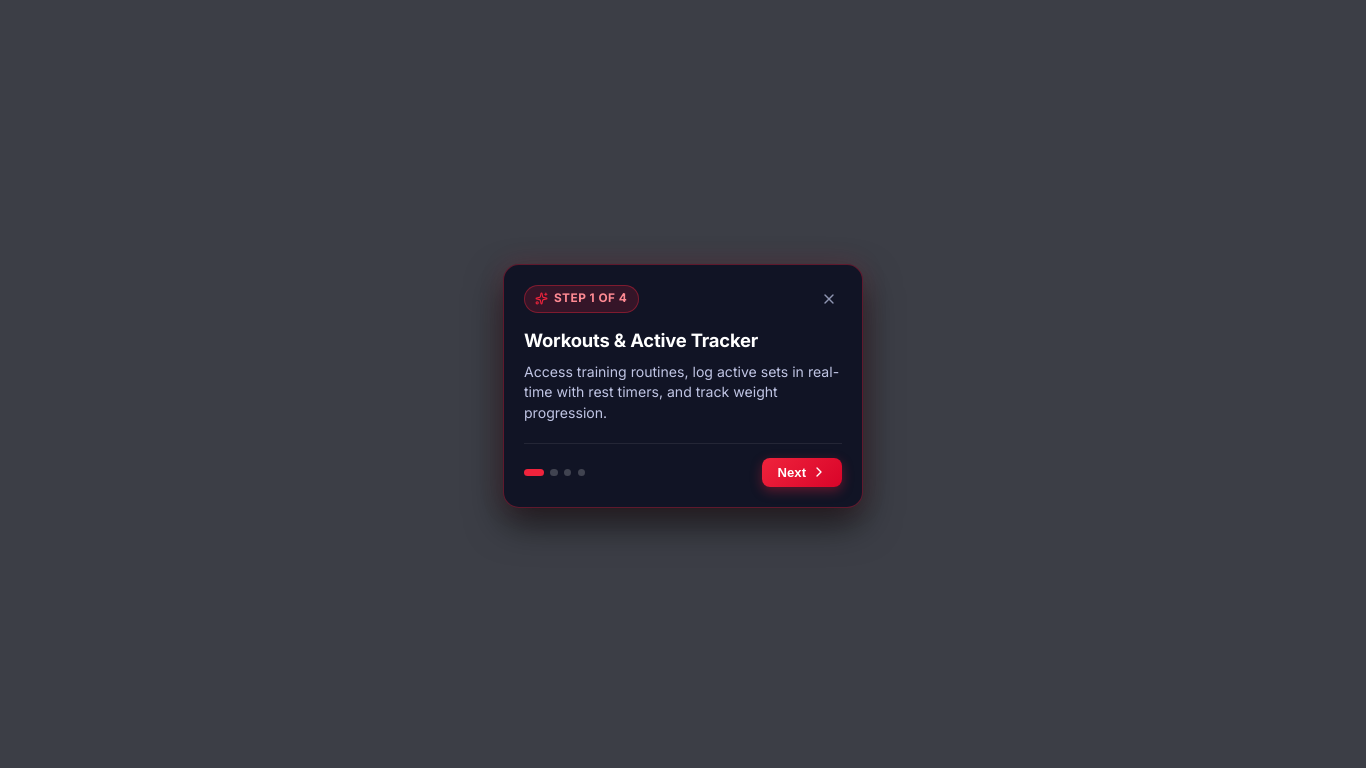
Test case: SpotlightTour › renders Client tour steps and advances with Next button
The width and height of the screenshot is (1366, 768).
expect the element with test id "tour-step-counter" shows "1": met, box top-left (554, 291), bottom-right (627, 305)
Note: Click Next
Click the button with test id "tour-next-btn" at (802, 472), box top-left (762, 458), bottom-right (842, 487)
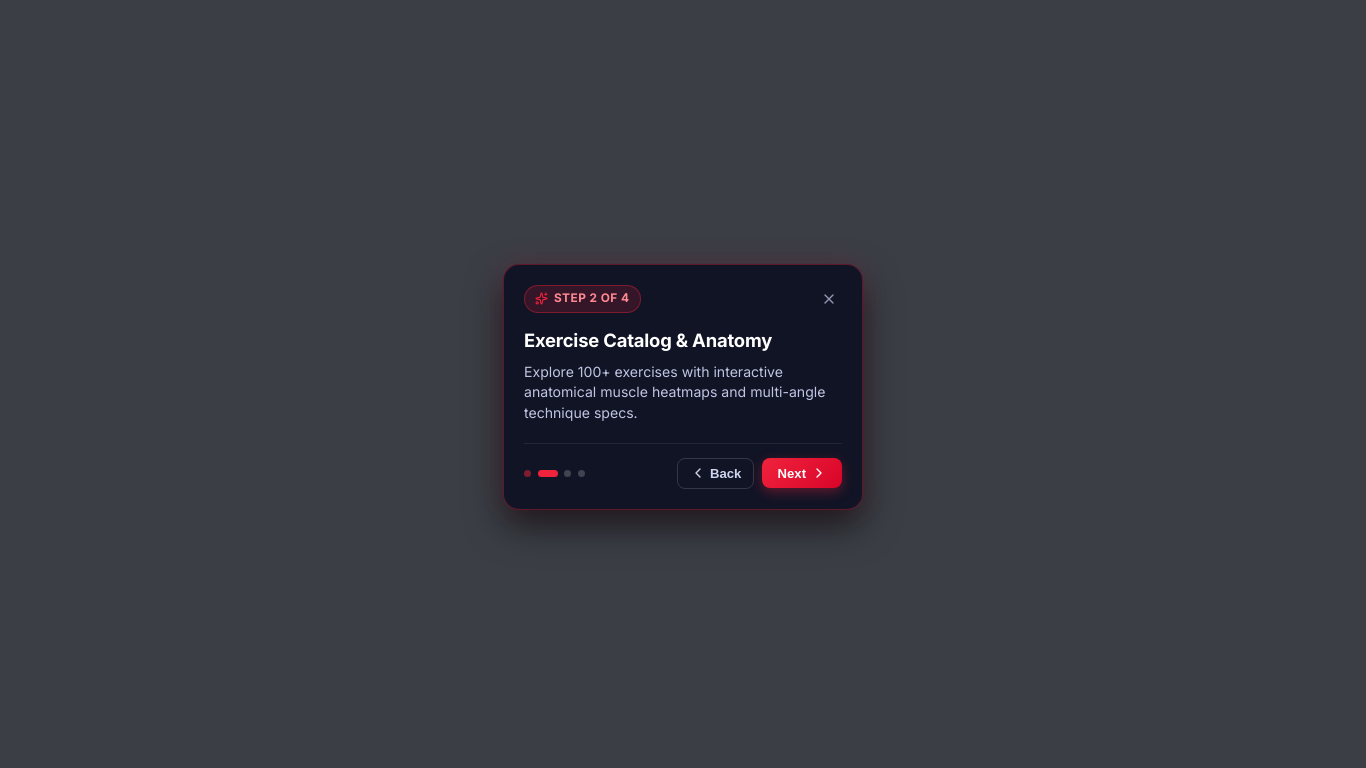
expect the element with test id "tour-step-counter" shows "2": met, box top-left (554, 291), bottom-right (630, 305)
expect the button with test id "tour-back-btn" is shown: met
Click the button with test id "tour-back-btn" at (716, 473), box top-left (677, 458), bottom-right (754, 489)
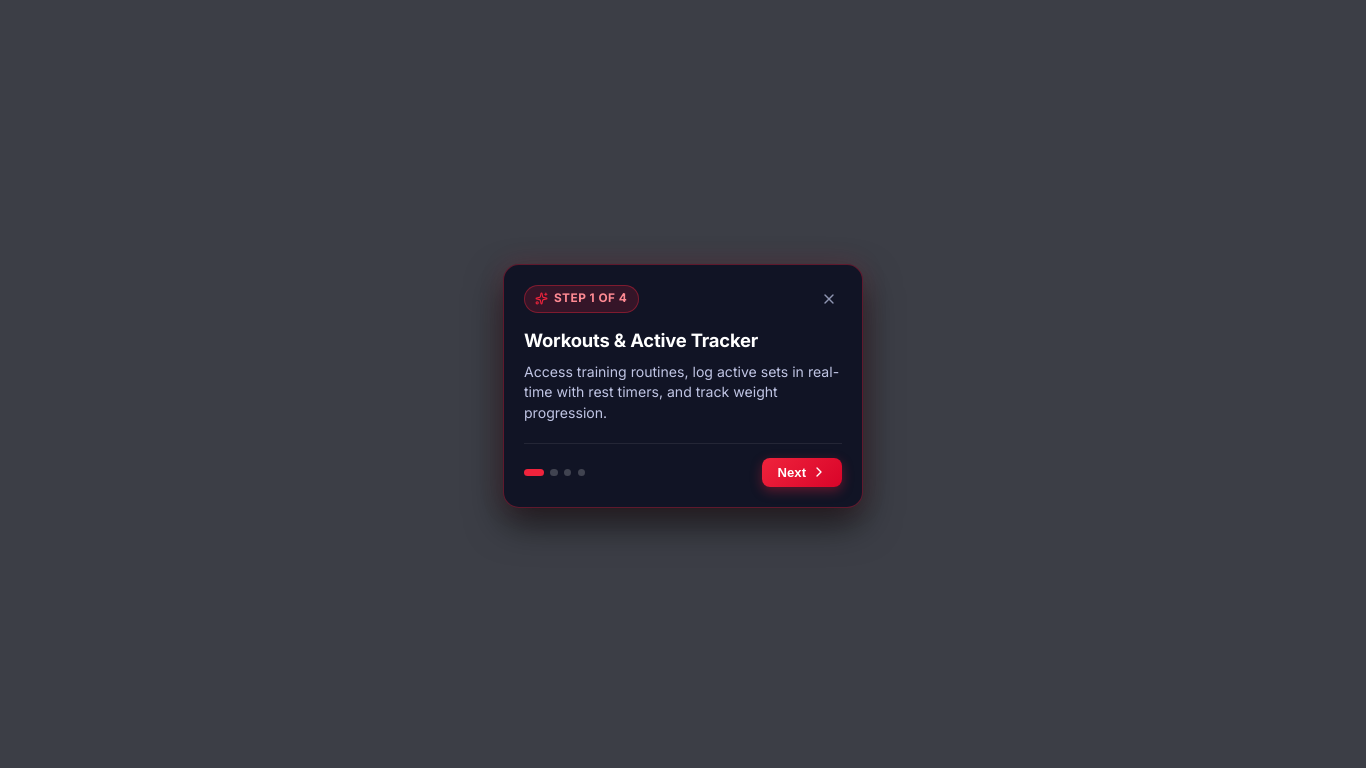
expect the element with test id "tour-step-counter" shows "1": met, box top-left (554, 291), bottom-right (627, 305)
